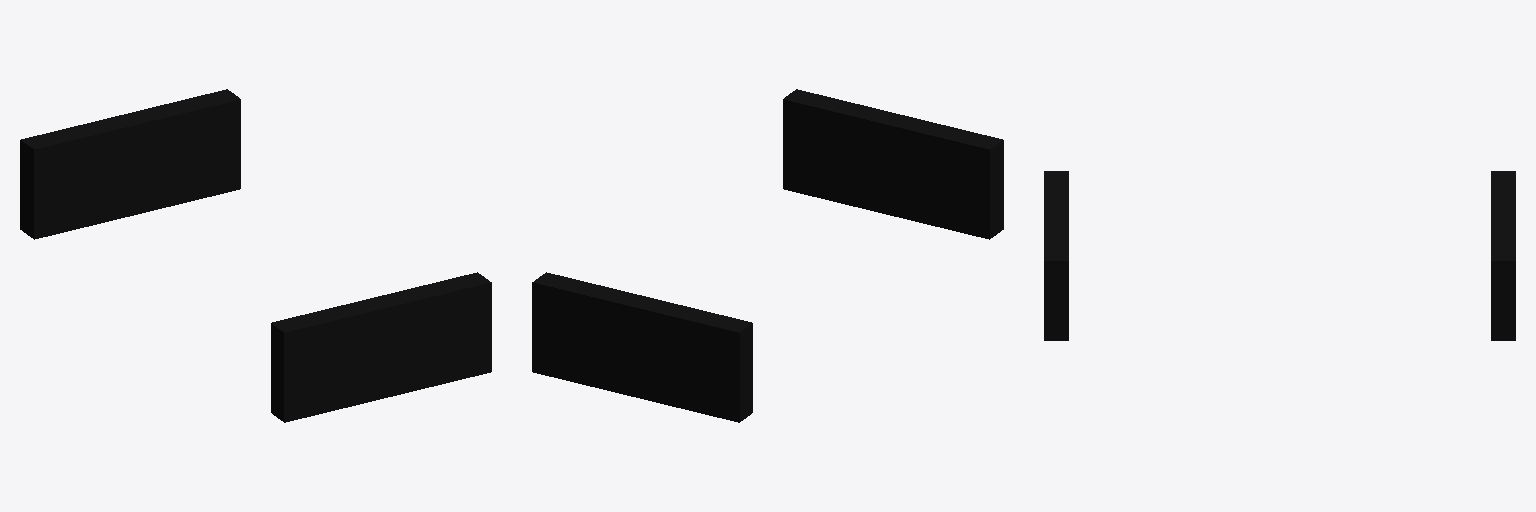
URDF robot description (abb_irb140):
<?xml version="0.0" ?>
<robot name="abb_irb140">
	<link name="base_link">
		<inertial>
			<origin rpy="0.00000 -0.00000 0.00000" xyz="0.00000 0.00000 0.00000"/>
			<mass value="0.00000"/>
			<inertia ixx="0.00000" ixy="0" ixz="0" iyy="0.00000" iyz="0" izz="0.00000"/>
		</inertial>
		<visual>
			<origin rpy="0.00000 -0.00000 0.00000" xyz="0.00000 0.00000 0.00000"/>
			<geometry>
				<mesh filename="./meshes/irb140/visual/base_link.stl" scale="0.01000 0.01000 0.01000"/>
			</geometry>
			<material name="mat_-1_0">
				<color rgba="1.00000 0.43000 0.00000 1.00000" />
			</material>
		</visual>
		<collision>
			<origin rpy="0.00000 -0.00000 0.00000" xyz="0.00000 0.00000 0.00000"/>
			<geometry>
				<mesh filename="./meshes/irb140/collision/base_link.stl" scale="0.01000 0.01000 0.01000"/>
			</geometry>
		</collision>
	</link>
	<link name="link_1">
		<inertial>
			<origin rpy="0.00000 -0.00000 0.00000" xyz="0.00000 0.00000 0.00000"/>
			<mass value="1.00000"/>
			<inertia ixx="0.02114" ixy="0" ixz="0" iyy="0.02172" iyz="0" izz="0.02016"/>
		</inertial>
		<visual>
			<origin rpy="0.00000 -0.00000 0.00000" xyz="0.00000 0.00000 0.00000"/>
			<geometry>
				<mesh filename="./meshes/irb140/visual/link_1.stl" scale="0.01000 0.01000 0.01000"/>
			</geometry>
			<material name="mat_0_0">
				<color rgba="1.00000 0.43000 0.00000 1.00000" />
			</material>
		</visual>
		<collision>
			<origin rpy="0.00000 -0.00000 0.00000" xyz="0.00000 0.00000 0.00000"/>
			<geometry>
				<mesh filename="./meshes/irb140/collision/link_1.stl" scale="0.01000 0.01000 0.01000"/>
			</geometry>
		</collision>
	</link>
	<link name="link_2">
		<inertial>
			<origin rpy="0.00000 -0.00000 0.00000" xyz="0.00000 0.00000 0.00000"/>
			<mass value="1.00000"/>
			<inertia ixx="0.02914" ixy="0" ixz="0" iyy="0.02557" iyz="0" izz="0.00946"/>
		</inertial>
		<visual>
			<origin rpy="0.00000 -0.00000 0.00000" xyz="-0.07000 0.00000 -0.35200"/>
			<geometry>
				<mesh filename="./meshes/irb140/visual/link_2.stl" scale="0.01000 0.01000 0.01000"/>
			</geometry>
			<material name="mat_1_0">
				<color rgba="1.00000 0.43000 0.00000 1.00000" />
			</material>
		</visual>
		<collision>
			<origin rpy="0.00000 -0.00000 0.00000" xyz="-0.07000 0.00000 -0.35200"/>
			<geometry>
				<mesh filename="./meshes/irb140/collision/link_2.stl" scale="0.01000 0.01000 0.01000"/>
			</geometry>
		</collision>
	</link>
	<link name="link_3">
		<inertial>
			<origin rpy="0.00000 -0.00000 0.00000" xyz="0.00000 0.00000 0.00000"/>
			<mass value="1.00000"/>
			<inertia ixx="0.00606" ixy="0" ixz="0" iyy="0.01645" iyz="0" izz="0.01544"/>
		</inertial>
		<visual>
			<origin rpy="0.00000 -0.00000 0.00000" xyz="-0.07000 0.06500 -0.71200"/>
			<geometry>
				<mesh filename="./meshes/irb140/visual/link_3.stl" scale="0.01000 0.01000 0.01000"/>
			</geometry>
			<material name="mat_2_0">
				<color rgba="1.00000 0.43000 0.00000 1.00000" />
			</material>
		</visual>
		<collision>
			<origin rpy="0.00000 -0.00000 0.00000" xyz="-0.07000 0.06500 -0.71200"/>
			<geometry>
				<mesh filename="./meshes/irb140/collision/link_3.stl" scale="0.01000 0.01000 0.01000"/>
			</geometry>
		</collision>
	</link>
	<link name="link_4">
		<inertial>
			<origin rpy="0.00000 -0.00000 0.00000" xyz="0.00000 0.00000 0.00000"/>
			<mass value="1.00000"/>
			<inertia ixx="0.00280" ixy="0" ixz="0" iyy="0.00532" iyz="0" izz="0.00581"/>
		</inertial>
		<visual>
			<origin rpy="0.00000 -0.00000 0.00000" xyz="-0.30900 0.00000 -0.71200"/>
			<geometry>
				<mesh filename="./meshes/irb140/visual/link_4.stl" scale="0.01000 0.01000 0.01000"/>
			</geometry>
			<material name="mat_3_0">
				<color rgba="1.00000 0.43000 0.00000 1.00000" />
			</material>
		</visual>
		<collision>
			<origin rpy="0.00000 -0.00000 0.00000" xyz="-0.30900 0.00000 -0.71200"/>
			<geometry>
				<mesh filename="./meshes/irb140/collision/link_4.stl" scale="0.01000 0.01000 0.01000"/>
			</geometry>
		</collision>
	</link>
	<link name="link_5">
		<inertial>
			<origin rpy="0.00000 -0.00000 0.00000" xyz="0.00000 0.00000 0.00000"/>
			<mass value="1.00000"/>
			<inertia ixx="0.00080" ixy="0" ixz="0" iyy="0.00137" iyz="0" izz="0.00080"/>
		</inertial>
		<visual>
			<origin rpy="0.00000 -0.00000 0.00000" xyz="-0.45000 0.00000 -0.71200"/>
			<geometry>
				<mesh filename="./meshes/irb140/visual/link_5.stl" scale="0.01000 0.01000 0.01000"/>
			</geometry>
			<material name="mat_4_0">
				<color rgba="1.00000 0.43000 0.00000 1.00000" />
			</material>
		</visual>
		<collision>
			<origin rpy="0.00000 -0.00000 0.00000" xyz="-0.45000 0.00000 -0.71200"/>
			<geometry>
				<mesh filename="./meshes/irb140/collision/link_5.stl" scale="0.01000 0.01000 0.01000"/>
			</geometry>
		</collision>
	</link>
	<link name="link_6">
		<inertial>
			<origin rpy="0.00000 -0.00000 0.00000" xyz="0.00000 0.00000 0.00000"/>
			<mass value="1.00000"/>
			<inertia ixx="0.00052" ixy="0" ixz="0" iyy="0.00046" iyz="0" izz="0.00046"/>
		</inertial>
		<visual>
			<origin rpy="0.00000 -0.00000 0.00000" xyz="-0.51500 0.00000 -0.71200"/>
			<geometry>
				<mesh filename="./meshes/irb140/visual/link_6.stl" scale="0.01000 0.01000 0.01000"/>
			</geometry>
			<material name="mat_5_0">
				<color rgba="1.00000 0.43000 0.00000 1.00000" />
			</material>
		</visual>
		<collision>
			<origin rpy="0.00000 -0.00000 0.00000" xyz="-0.51500 0.00000 -0.71200"/>
			<geometry>
				<mesh filename="./meshes/irb140/collision/link_6.stl" scale="0.01000 0.01000 0.01000"/>
			</geometry>
		</collision>
	</link>
	<link name="tool0">
		<inertial>
			<origin rpy="0.00000 -0.00000 0.00000" xyz="0.00000 0.00000 0.00000"/>
			<mass value="1.00000"/>
			<inertia ixx="0.00000" ixy="0" ixz="0" iyy="0.00000" iyz="0" izz="0.00000"/>
		</inertial>
	</link>
	<link name="base">
		<inertial>
			<origin rpy="0.00000 -0.00000 0.00000" xyz="0.00000 0.00000 0.00000"/>
			<mass value="1.00000"/>
			<inertia ixx="0.00000" ixy="0" ixz="0" iyy="0.00000" iyz="0" izz="0.00000"/>
		</inertial>
	</link>
	<link name="robotiq_arg2f_base_link">
		<inertial>
			<origin rpy="0.00000 -0.00000 0.00000" xyz="0.00000 -0.00000 0.03145"/>
			<mass value="0.00000"/>
			<inertia ixx="0.00000" ixy="0" ixz="0" iyy="0.00000" iyz="0" izz="0.00000"/>
		</inertial>
		<visual>
			<origin rpy="0.00000 -0.00000 0.00000" xyz="0.00000 0.00000 0.00000"/>
			<geometry>
				<mesh filename="urdfs/robotiq_140_gripper_description/urdf/../meshes/robotiq_140/visual/robotiq_arg2f_base_link.stl" scale="1.00000 1.00000 1.00000"/>
			</geometry>
			<material name="mat_-1_0">
				<color rgba="0.10000 0.10000 0.10000 1.00000" />
			</material>
		</visual>
		<collision>
			<origin rpy="0.00000 -0.00000 0.00000" xyz="0.00000 0.00000 0.00000"/>
			<geometry>
				<mesh filename="urdfs/robotiq_140_gripper_description/urdf/../meshes/robotiq_140/collision/robotiq_arg2f_base_link.stl" scale="1.00000 1.00000 1.00000"/>
			</geometry>
		</collision>
	</link>
	<link name="left_outer_knuckle">
		<inertial>
			<origin rpy="0.00000 -0.00000 0.00000" xyz="-0.00020 0.01994 0.02922"/>
			<mass value="0.00853"/>
			<inertia ixx="0.00000" ixy="0" ixz="0" iyy="0.00000" iyz="0" izz="0.00000"/>
		</inertial>
		<visual>
			<origin rpy="0.00000 -0.00000 0.00000" xyz="0.00000 0.00000 0.00000"/>
			<geometry>
				<mesh filename="urdfs/robotiq_140_gripper_description/urdf/../meshes/robotiq_140/visual/robotiq_arg2f_140_outer_knuckle.stl" scale="1.00000 1.00000 1.00000"/>
			</geometry>
			<material name="mat_0_0">
				<color rgba="0.10000 0.10000 0.10000 1.00000" />
			</material>
		</visual>
		<collision>
			<origin rpy="0.00000 -0.00000 0.00000" xyz="0.00000 0.00000 0.00000"/>
			<geometry>
				<mesh filename="urdfs/robotiq_140_gripper_description/urdf/../meshes/robotiq_140/collision/robotiq_arg2f_140_outer_knuckle.stl" scale="1.00000 1.00000 1.00000"/>
			</geometry>
		</collision>
	</link>
	<link name="left_outer_finger">
		<inertial>
			<origin rpy="0.00000 -0.00000 0.00000" xyz="0.00030 0.03739 -0.02080"/>
			<mass value="0.02261"/>
			<inertia ixx="0.00002" ixy="0" ixz="0" iyy="0.00001" iyz="0" izz="0.00002"/>
		</inertial>
		<visual>
			<origin rpy="0.00000 -0.00000 0.00000" xyz="0.00000 0.00000 0.00000"/>
			<geometry>
				<mesh filename="urdfs/robotiq_140_gripper_description/urdf/../meshes/robotiq_140/visual/robotiq_arg2f_140_outer_finger.stl" scale="1.00000 1.00000 1.00000"/>
			</geometry>
			<material name="mat_1_0">
				<color rgba="0.10000 0.10000 0.10000 1.00000" />
			</material>
		</visual>
		<collision>
			<origin rpy="0.00000 -0.00000 0.00000" xyz="0.00000 0.00000 0.00000"/>
			<geometry>
				<mesh filename="urdfs/robotiq_140_gripper_description/urdf/../meshes/robotiq_140/collision/robotiq_arg2f_140_outer_finger.stl" scale="1.00000 1.00000 1.00000"/>
			</geometry>
		</collision>
	</link>
	<link name="left_inner_finger">
		<inertial>
			<origin rpy="0.00000 -0.00000 0.00000" xyz="0.00030 0.01601 -0.01369"/>
			<mass value="0.01040"/>
			<inertia ixx="0.00000" ixy="0" ixz="0" iyy="0.00000" iyz="0" izz="0.00000"/>
		</inertial>
		<visual>
			<origin rpy="0.00000 -0.00000 0.00000" xyz="0.00000 0.00000 0.00000"/>
			<geometry>
				<mesh filename="urdfs/robotiq_140_gripper_description/urdf/../meshes/robotiq_140/visual/robotiq_arg2f_140_inner_finger.stl" scale="1.00000 1.00000 1.00000"/>
			</geometry>
			<material name="mat_2_0">
				<color rgba="0.10000 0.10000 0.10000 1.00000" />
			</material>
		</visual>
		<collision>
			<origin rpy="0.00000 -0.00000 0.00000" xyz="0.00000 0.00000 0.00000"/>
			<geometry>
				<mesh filename="urdfs/robotiq_140_gripper_description/urdf/../meshes/robotiq_140/collision/robotiq_arg2f_140_inner_finger.stl" scale="1.00000 1.00000 1.00000"/>
			</geometry>
		</collision>
	</link>
	<link name="left_inner_finger_pad">
		<contact>
			<lateral_friction value="1.0"/>
			<rolling_friction value="0.0"/>
			<contact_cfm value="0.0"/>
			<contact_erp value="1.0"/>
		</contact>
		<inertial>
			<origin rpy="0.00000 -0.00000 0.00000" xyz="0.00000 0.00000 0.00000"/>
			<mass value="1.00000"/>
			<inertia ixx="0.00041" ixy="0" ixz="0" iyy="0.00008" iyz="0" izz="0.00048"/>
		</inertial>
		<visual>
			<origin rpy="0.00000 -0.00000 0.00000" xyz="0.00000 0.00000 0.00000"/>
			<geometry>
				<box size="0.02700 0.06500 0.00750"/>
			</geometry>
			<material name="mat_3_0">
				<color rgba="0.10000 0.10000 0.10000 1.00000" />
			</material>
		</visual>
		<collision>
			<origin rpy="0.00000 -0.00000 0.00000" xyz="0.00000 0.00000 0.00000"/>
			<geometry>
				<box size="0.03000 0.07000 0.00750"/>
			</geometry>
		</collision>
	</link>
	<link name="left_inner_knuckle">
		<inertial>
			<origin rpy="0.00000 -0.00000 0.00000" xyz="0.00012 0.05079 0.00104"/>
			<mass value="0.02712"/>
			<inertia ixx="0.00003" ixy="0" ixz="0" iyy="0.00001" iyz="0" izz="0.00004"/>
		</inertial>
		<visual>
			<origin rpy="0.00000 -0.00000 0.00000" xyz="0.00000 0.00000 0.00000"/>
			<geometry>
				<mesh filename="urdfs/robotiq_140_gripper_description/urdf/../meshes/robotiq_140/visual/robotiq_arg2f_140_inner_knuckle.stl" scale="1.00000 1.00000 1.00000"/>
			</geometry>
			<material name="mat_4_0">
				<color rgba="0.10000 0.10000 0.10000 1.00000" />
			</material>
		</visual>
		<collision>
			<origin rpy="0.00000 -0.00000 0.00000" xyz="0.00000 0.00000 0.00000"/>
			<geometry>
				<mesh filename="urdfs/robotiq_140_gripper_description/urdf/../meshes/robotiq_140/collision/robotiq_arg2f_140_inner_knuckle.stl" scale="1.00000 1.00000 1.00000"/>
			</geometry>
		</collision>
	</link>
	<link name="right_outer_knuckle">
		<inertial>
			<origin rpy="0.00000 -0.00000 0.00000" xyz="-0.00020 0.01994 0.02922"/>
			<mass value="0.00853"/>
			<inertia ixx="0.00000" ixy="0" ixz="0" iyy="0.00000" iyz="0" izz="0.00000"/>
		</inertial>
		<visual>
			<origin rpy="0.00000 -0.00000 0.00000" xyz="0.00000 0.00000 0.00000"/>
			<geometry>
				<mesh filename="urdfs/robotiq_140_gripper_description/urdf/../meshes/robotiq_140/visual/robotiq_arg2f_140_outer_knuckle.stl" scale="1.00000 1.00000 1.00000"/>
			</geometry>
			<material name="mat_5_0">
				<color rgba="0.10000 0.10000 0.10000 1.00000" />
			</material>
		</visual>
		<collision>
			<origin rpy="0.00000 -0.00000 0.00000" xyz="0.00000 0.00000 0.00000"/>
			<geometry>
				<mesh filename="urdfs/robotiq_140_gripper_description/urdf/../meshes/robotiq_140/collision/robotiq_arg2f_140_outer_knuckle.stl" scale="1.00000 1.00000 1.00000"/>
			</geometry>
		</collision>
	</link>
	<link name="right_outer_finger">
		<inertial>
			<origin rpy="0.00000 -0.00000 0.00000" xyz="0.00030 0.03739 -0.02080"/>
			<mass value="0.02261"/>
			<inertia ixx="0.00002" ixy="0" ixz="0" iyy="0.00001" iyz="0" izz="0.00002"/>
		</inertial>
		<visual>
			<origin rpy="0.00000 -0.00000 0.00000" xyz="0.00000 0.00000 0.00000"/>
			<geometry>
				<mesh filename="urdfs/robotiq_140_gripper_description/urdf/../meshes/robotiq_140/visual/robotiq_arg2f_140_outer_finger.stl" scale="1.00000 1.00000 1.00000"/>
			</geometry>
			<material name="mat_6_0">
				<color rgba="0.10000 0.10000 0.10000 1.00000" />
			</material>
		</visual>
		<collision>
			<origin rpy="0.00000 -0.00000 0.00000" xyz="0.00000 0.00000 0.00000"/>
			<geometry>
				<mesh filename="urdfs/robotiq_140_gripper_description/urdf/../meshes/robotiq_140/collision/robotiq_arg2f_140_outer_finger.stl" scale="1.00000 1.00000 1.00000"/>
			</geometry>
		</collision>
	</link>
	<link name="right_inner_finger">
		<inertial>
			<origin rpy="0.00000 -0.00000 0.00000" xyz="0.00030 0.01601 -0.01369"/>
			<mass value="0.01040"/>
			<inertia ixx="0.00000" ixy="0" ixz="0" iyy="0.00000" iyz="0" izz="0.00000"/>
		</inertial>
		<visual>
			<origin rpy="0.00000 -0.00000 0.00000" xyz="0.00000 0.00000 0.00000"/>
			<geometry>
				<mesh filename="urdfs/robotiq_140_gripper_description/urdf/../meshes/robotiq_140/visual/robotiq_arg2f_140_inner_finger.stl" scale="1.00000 1.00000 1.00000"/>
			</geometry>
			<material name="mat_7_0">
				<color rgba="0.10000 0.10000 0.10000 1.00000" />
			</material>
		</visual>
		<collision>
			<origin rpy="0.00000 -0.00000 0.00000" xyz="0.00000 0.00000 0.00000"/>
			<geometry>
				<mesh filename="urdfs/robotiq_140_gripper_description/urdf/../meshes/robotiq_140/collision/robotiq_arg2f_140_inner_finger.stl" scale="1.00000 1.00000 1.00000"/>
			</geometry>
		</collision>
	</link>
	<link name="right_inner_finger_pad">
		<contact>
			<lateral_friction value="1.0"/>
			<rolling_friction value="0.0"/>
			<contact_cfm value="0.0"/>
			<contact_erp value="1.0"/>
		</contact>

		<inertial>
			<origin rpy="0.00000 -0.00000 0.00000" xyz="0.00000 0.00000 0.00000"/>
			<mass value="1.00000"/>
			<inertia ixx="0.00041" ixy="0" ixz="0" iyy="0.00008" iyz="0" izz="0.00048"/>
		</inertial>
		<visual>
			<origin rpy="0.00000 -0.00000 0.00000" xyz="0.00000 0.00000 0.00000"/>
			<geometry>
				<box size="0.02700 0.06500 0.00750"/>
			</geometry>
			<material name="mat_8_0">
				<color rgba="0.10000 0.10000 0.10000 1.00000" />
			</material>
		</visual>
		<collision>
			<origin rpy="0.00000 -0.00000 0.00000" xyz="0.00000 0.00000 0.00000"/>
			<geometry>
				<box size="0.03000 0.07000 0.00750"/>
			</geometry>
		</collision>
	</link>
	<link name="right_inner_knuckle">
		<inertial>
			<origin rpy="0.00000 -0.00000 0.00000" xyz="0.00012 0.05079 0.00104"/>
			<mass value="0.02712"/>
			<inertia ixx="0.00003" ixy="0" ixz="0" iyy="0.00001" iyz="0" izz="0.00004"/>
		</inertial>
		<visual>
			<origin rpy="0.00000 -0.00000 0.00000" xyz="0.00000 0.00000 0.00000"/>
			<geometry>
				<mesh filename="urdfs/robotiq_140_gripper_description/urdf/../meshes/robotiq_140/visual/robotiq_arg2f_140_inner_knuckle.stl" scale="1.00000 1.00000 1.00000"/>
			</geometry>
			<material name="mat_9_0">
				<color rgba="0.10000 0.10000 0.10000 1.00000" />
			</material>
		</visual>
		<collision>
			<origin rpy="0.00000 -0.00000 0.00000" xyz="0.00000 0.00000 0.00000"/>
			<geometry>
				<mesh filename="urdfs/robotiq_140_gripper_description/urdf/../meshes/robotiq_140/collision/robotiq_arg2f_140_inner_knuckle.stl" scale="1.00000 1.00000 1.00000"/>
			</geometry>
		</collision>
	</link>
	<joint name="joint_1" type="revolute">
		<parent link="base_link"/>
		<child link="link_1"/>
		<limit effort="0.00000" lower="-3.14160" upper="3.14160" velocity="2.61800"/>
		<dynamics damping="1.0" friction="0.0001"/>
		<origin rpy="0.00000 -0.00000 0.00000" xyz="0.00000 0.00000 0.00000"/>
		<axis xyz="0.00000 0.00000 1.00000"/>
	</joint>
	<joint name="joint_2" type="revolute">
		<parent link="link_1"/>
		<child link="link_2"/>
		<limit effort="0.00000" lower="-1.74530" upper="1.74530" velocity="2.61800"/>
		<dynamics damping="1.0" friction="0.0001"/>
		<origin rpy="0.00000 -0.00000 0.00000" xyz="0.07000 0.00000 0.35200"/>
		<axis xyz="0.00000 1.00000 0.00000"/>
	</joint>
	<joint name="joint_3" type="revolute">
		<parent link="link_2"/>
		<child link="link_3"/>
		<limit effort="0.00000" lower="-2.44340" upper="2.44340" velocity="2.61800"/>
		<dynamics damping="1.0" friction="0.0001"/>
		<origin rpy="0.00000 -0.00000 0.00000" xyz="0.00000 -0.06500 0.36000"/>
		<axis xyz="0.00000 1.00000 0.00000"/>
	</joint>
	<joint name="joint_4" type="revolute">
		<parent link="link_3"/>
		<child link="link_4"/>
		<limit effort="0.00000" lower="-3.49000" upper="3.49000" velocity="6.28320"/>
		<dynamics damping="1.0" friction="0.0001"/>
		<origin rpy="0.00000 -0.00000 0.00000" xyz="0.23900 0.06500 0.00000"/>
		<axis xyz="1.00000 0.00000 0.00000"/>
	</joint>
	<joint name="joint_5" type="revolute">
		<parent link="link_4"/>
		<child link="link_5"/>
		<limit effort="0.00000" lower="-2.00710" upper="2.00710" velocity="6.28320"/>
		<dynamics damping="1.0" friction="0.0001"/>
		<origin rpy="0.00000 -0.00000 0.00000" xyz="0.14100 0.00000 0.00000"/>
		<axis xyz="0.00000 1.00000 0.00000"/>
	</joint>
	<joint name="joint_6" type="revolute">
		<parent link="link_5"/>
		<child link="link_6"/>
		<limit effort="0.00000" lower="-6.98130" upper="6.98130" velocity="7.85400"/>
		<dynamics damping="1.0" friction="0.0001"/>
		<origin rpy="0.00000 -0.00000 0.00000" xyz="0.06500 0.00000 0.00000"/>
		<axis xyz="1.00000 0.00000 0.00000"/>
	</joint>
	<joint name="joint_6-tool0" type="fixed">
		<parent link="link_6"/>
		<child link="tool0"/>
		<dynamics damping="1.0" friction="0.0001"/>
		<origin rpy="0.00000 -0.00000 0.00000" xyz="0.00000 0.00000 0.00000"/>
		<axis xyz="0.00000 0.00000 0.00000"/>
	</joint>
	<joint name="base_link-base" type="fixed">
		<parent link="base_link"/>
		<child link="base"/>
		<dynamics damping="1.0" friction="0.0001"/>
		<origin rpy="0.00000 -0.00000 0.00000" xyz="0.00000 0.00000 0.00000"/>
		<axis xyz="0.00000 0.00000 0.00000"/>
	</joint>
	<joint name="joint_dummy1" type="fixed">
		<parent link="link_6"/>
		<child link="robotiq_arg2f_base_link"/>
		<dynamics damping="1.0" friction="0.0001"/>
		<origin rpy="0.00000 1.57080 0.00000" xyz="0.00000 0.00000 0.00000"/>
		<axis xyz="0.00000 0.00000 1.00000"/>
	</joint>
	<joint name="finger_joint" type="revolute">
		<parent link="robotiq_arg2f_base_link"/>
		<child link="left_outer_knuckle"/>
		<limit effort="1000.00000" lower="0.00000" upper="0.72500" velocity="2.00000"/>
		<dynamics damping="1.0" friction="0.0001"/>
		<origin rpy="2.29580 -0.00000 0.00000" xyz="0.00000 -0.03060 0.05490"/>
		<axis xyz="-1.00000 0.00000 0.00000"/>
	</joint>
	<joint name="left_outer_finger_joint" type="fixed">
		<parent link="left_outer_knuckle"/>
		<child link="left_outer_finger"/>
		<dynamics damping="1.0" friction="0.0001"/>
		<origin rpy="0.00000 -0.00000 0.00000" xyz="0.00000 0.01822 0.02600"/>
		<axis xyz="0.00000 0.00000 0.00000"/>
	</joint>
	<joint name="left_inner_finger_joint" type="revolute">
		<parent link="left_outer_finger"/>
		<child link="left_inner_finger"/>
		<limit effort="1000.00000" lower="0.00000" upper="0.72500" velocity="2.00000"/>
		<dynamics damping="1.0" friction="0.0001"/>
		<origin rpy="-0.72500 0.00000 0.00000" xyz="0.00000 0.08176 -0.02822"/>
		<axis xyz="1.00000 0.00000 0.00000"/>
	</joint>
	<joint name="left_inner_finger_pad_joint" type="fixed">
		<parent link="left_inner_finger"/>
		<child link="left_inner_finger_pad"/>
		<dynamics damping="1.0" friction="0.0001"/>
		<origin rpy="0.00000 -0.00000 0.00000" xyz="0.00000 0.04576 -0.02722"/>
		<axis xyz="0.00000 0.00000 0.00000"/>
	</joint>
	<joint name="left_inner_knuckle_joint" type="revolute">
		<parent link="robotiq_arg2f_base_link"/>
		<child link="left_inner_knuckle"/>
		<limit effort="1000.00000" lower="-0.72500" upper="0.00000" velocity="2.00000"/>
		<dynamics damping="1.0" friction="0.0001"/>
		<origin rpy="2.29580 -0.00000 0.00000" xyz="0.00000 -0.01270 0.06142"/>
		<axis xyz="1.00000 0.00000 0.00000"/>
	</joint>
	<joint name="right_outer_knuckle_joint" type="revolute">
		<parent link="robotiq_arg2f_base_link"/>
		<child link="right_outer_knuckle"/>
		<limit effort="1000.00000" lower="-0.72500" upper="0.00000" velocity="2.00000"/>
		<dynamics damping="1.0" friction="0.0001"/>
		<origin rpy="2.29580 0.00000 3.14159" xyz="0.00000 0.03060 0.05490"/>
		<axis xyz="1.00000 0.00000 0.00000"/>
	</joint>
	<joint name="right_outer_finger_joint" type="fixed">
		<parent link="right_outer_knuckle"/>
		<child link="right_outer_finger"/>
		<dynamics damping="1.0" friction="0.0001"/>
		<origin rpy="0.00000 -0.00000 0.00000" xyz="0.00000 0.01822 0.02600"/>
		<axis xyz="0.00000 0.00000 0.00000"/>
	</joint>
	<joint name="right_inner_finger_joint" type="revolute">
		<parent link="right_outer_finger"/>
		<child link="right_inner_finger"/>
		<limit effort="1000.00000" lower="0.00000" upper="0.72500" velocity="2.00000"/>
		<dynamics damping="1.0" friction="0.0001"/>
		<origin rpy="-0.72500 0.00000 0.00000" xyz="0.00000 0.08176 -0.02822"/>
		<axis xyz="1.00000 0.00000 0.00000"/>
	</joint>
	<joint name="right_inner_finger_pad_joint" type="fixed">
		<parent link="right_inner_finger"/>
		<child link="right_inner_finger_pad"/>
		<dynamics damping="1.0" friction="0.0001"/>
		<origin rpy="0.00000 -0.00000 0.00000" xyz="0.00000 0.04576 -0.02722"/>
		<axis xyz="0.00000 0.00000 0.00000"/>
	</joint>
	<joint name="right_inner_knuckle_joint" type="revolute">
		<parent link="robotiq_arg2f_base_link"/>
		<child link="right_inner_knuckle"/>
		<limit effort="1000.00000" lower="-0.72500" upper="0.00000" velocity="2.00000"/>
		<dynamics damping="1.0" friction="0.0001"/>
		<origin rpy="2.29580 -0.00000 -3.14159" xyz="0.00000 0.01270 0.06142"/>
		<axis xyz="1.00000 0.00000 0.00000"/>
	</joint>
</robot>

--- Render facts (derived) ---
Views: 3 orthographic renders of the robot side by side, from view 1: azimuth 30°, elevation 25°; view 2: azimuth 150°, elevation 25°; view 3: azimuth 270°, elevation 25°.
Robot: abb_irb140 — 20 links, 19 joints (12 revolute, 7 fixed); root link base_link; default pose: every joint at zero.
Visible links, largest first — view 1: left_inner_finger_pad, right_inner_finger_pad; view 2: left_inner_finger_pad, right_inner_finger_pad; view 3: left_inner_finger_pad, right_inner_finger_pad.
Boxes of the visible links, x1,y1,x2,y2 form: left_inner_finger_pad: (271, 272, 491, 422); right_inner_finger_pad: (20, 89, 240, 239); left_inner_finger_pad: (783, 89, 1003, 239); right_inner_finger_pad: (532, 272, 752, 422); left_inner_finger_pad: (1044, 171, 1068, 340); right_inner_finger_pad: (1491, 171, 1515, 340).
Size in the robot's own frame: 0.065 by 0.1435 by 0.027 metres.
0 mesh visuals loaded from 12 distinct referenced files (none loaded); not drawn: 16 (reference not matched to a file when rendering).